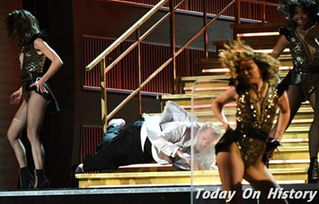fall: (72, 95, 223, 177)
